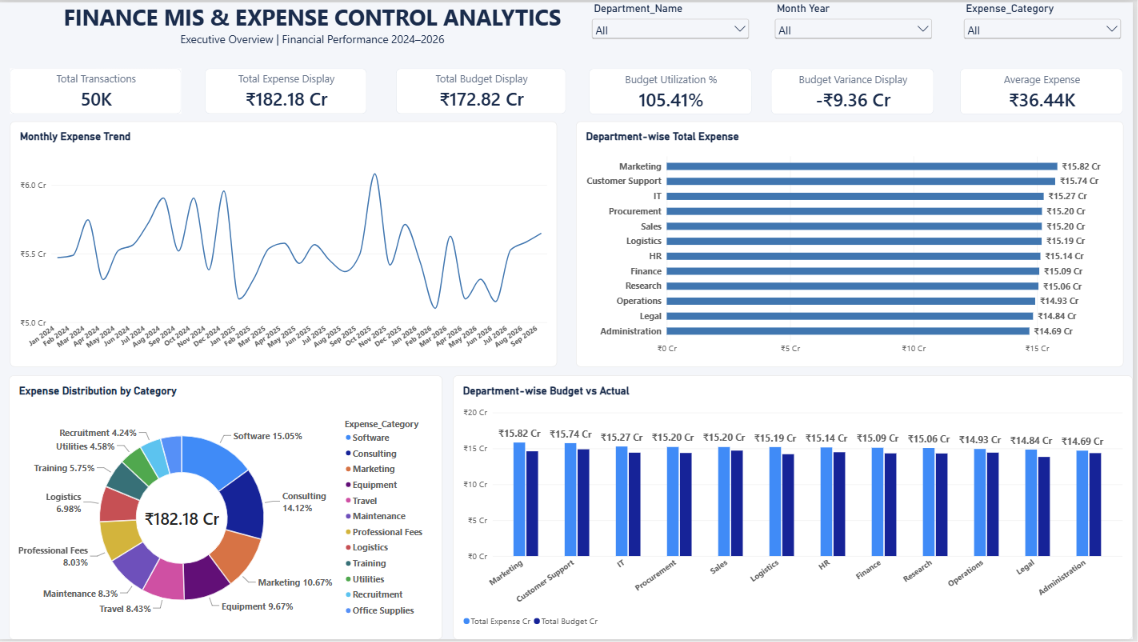

The dashboard page shown, as its layout file describes it:
{"tool":"powerbi","page":{"name":"Executive Overview","canvas":[1920,1080],"ordinal":0},"visuals":[{"type":"cardVisual","fields":{"Data":["finance_mis cleaned_transactions.Total Transactions"]},"box":[16.7,111.1,290.7,77.8],"z":0},{"type":"cardVisual","fields":{"Data":["finance_mis cleaned_transactions.Total Expense Display"]},"box":[348.1,111.1,274.1,77.8],"z":1000},{"type":"cardVisual","title":"Total Budget","fields":{"Data":["finance_mis cleaned_monthly_budget.Total Budget Display"]},"box":[670.4,111.1,288.9,77.8],"z":2000},{"type":"cardVisual","fields":{"Data":["finance_mis cleaned_transactions.Average Expense"]},"box":[1627.8,111.1,276.4,78.2],"z":3000},{"type":"cardVisual","fields":{"Data":["finance_mis cleaned_transactions.Budget Variance Display"]},"box":[1307.4,111.1,276.4,78.2],"z":4000},{"type":"cardVisual","fields":{"Data":["finance_mis cleaned_transactions.Budget Utilization %"]},"box":[998.1,111.1,276.4,78.2],"z":5000},{"type":"lineChart","title":"Monthly Expense Trend","fields":{"Category":["Calendar.Month Year"],"Y":["finance_mis cleaned_transactions.Total Expense Cr"]},"box":[16.4,201.8,927.3,416.4],"z":6000},{"type":"clusteredBarChart","title":"Department-wise Total Expense","fields":{"Category":["finance_mis cleaned_departments.Department_Name"],"Y":["finance_mis cleaned_transactions.Total Expense Cr"]},"box":[976,202,928,416],"z":7000},{"type":"donutChart","title":"Expense Distribution by Category","fields":{"Category":["finance_mis cleaned_transactions.Expense_Category"],"Y":["finance_mis cleaned_transactions.Total Expense"]},"box":[16,632,734,448],"z":8000},{"type":"clusteredColumnChart","title":"Department-wise Budget vs Actual","fields":{"Category":["finance_mis cleaned_departments.Department_Name"],"Y":["finance_mis cleaned_transactions.Total Expense Cr","finance_mis cleaned_monthly_budget.Total Budget Cr"]},"box":[768,632,1152,448],"z":9000},{"type":"textbox","box":[16,0,944,98],"z":10000},{"type":"slicer","fields":{"Values":["finance_mis cleaned_departments.Department_Name"]},"box":[998,0,276,102],"z":11000},{"type":"slicer","fields":{"Values":["Dim_Expense_Category.Expense_Category"]},"box":[1628,0,276,98],"z":12000},{"type":"slicer","fields":{"Values":["Calendar.Month Year"]},"box":[1308,0,276,98],"z":12001}]}

Visuals, with their boxes in screenshot pixels (x1, y1, x2, y2), scaled from the page's 1920x1080 canvas onto the 1138x642 screenshot:
cardVisual - finance_mis cleaned_transactions.Total Transactions: bbox=(10, 66, 182, 112)
cardVisual - finance_mis cleaned_transactions.Total Expense Display: bbox=(206, 66, 369, 112)
"Total Budget" cardVisual: bbox=(397, 66, 569, 112)
cardVisual - finance_mis cleaned_transactions.Average Expense: bbox=(965, 66, 1129, 113)
cardVisual - finance_mis cleaned_transactions.Budget Variance Display: bbox=(775, 66, 939, 113)
cardVisual - finance_mis cleaned_transactions.Budget Utilization %: bbox=(592, 66, 755, 113)
"Monthly Expense Trend" lineChart: bbox=(10, 120, 559, 367)
"Department-wise Total Expense" clusteredBarChart: bbox=(578, 120, 1129, 367)
"Expense Distribution by Category" donutChart: bbox=(9, 376, 445, 641)
"Department-wise Budget vs Actual" clusteredColumnChart: bbox=(455, 376, 1137, 641)
textbox: bbox=(9, 0, 569, 58)
slicer - finance_mis cleaned_departments.Department_Name: bbox=(592, 0, 755, 61)
slicer - Dim_Expense_Category.Expense_Category: bbox=(965, 0, 1129, 58)
slicer - Calendar.Month Year: bbox=(775, 0, 939, 58)
